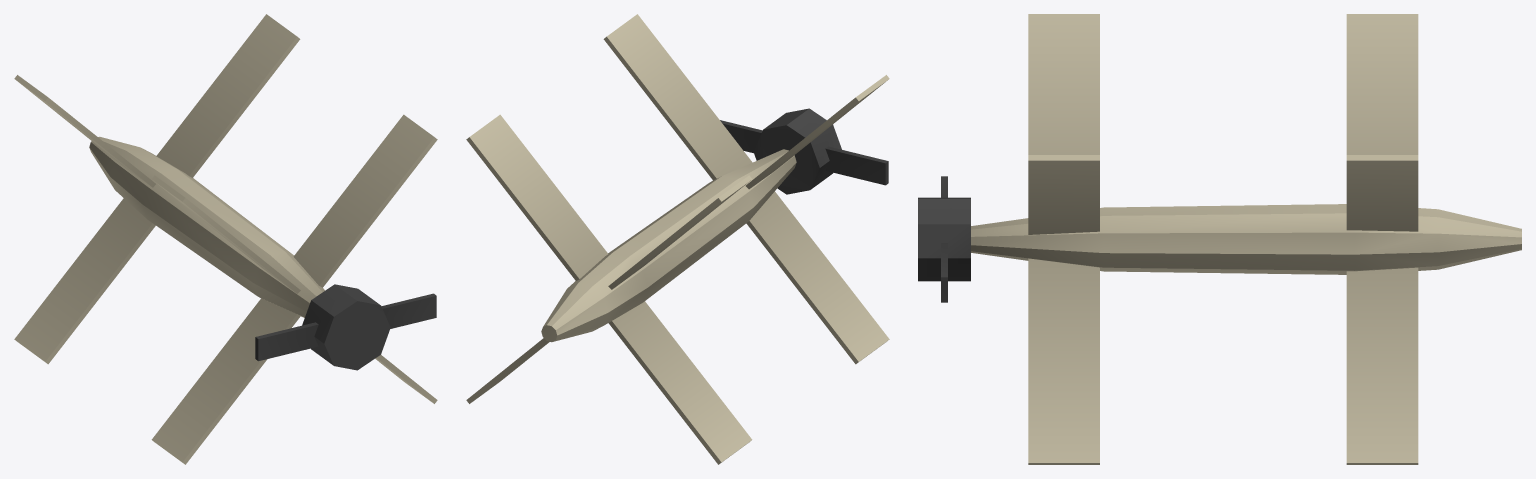
Rendered from usa_lm_red.glb.
3 views of the same model, side by side, from view 1: azimuth 30°, elevation 25°; view 2: azimuth 150°, elevation 25°; view 3: azimuth 270°, elevation 25° (orthographic). The views are drawn at different scales.
Parts seen in each view (by area): view 1: body, propy_0; view 2: body, propy_0; view 3: body, propy_0.
Part boxes in pixels (x1=…): body: x1=14, y1=14, x2=437, y2=464; propy_0: x1=255, y1=284, x2=436, y2=370; body: x1=466, y1=14, x2=889, y2=464; propy_0: x1=720, y1=108, x2=888, y2=194; body: x1=971, y1=14, x2=1521, y2=464; propy_0: x1=918, y1=176, x2=970, y2=302.
Size of the model in its own units: 0.9682 by 0.9682 by 1.71.
